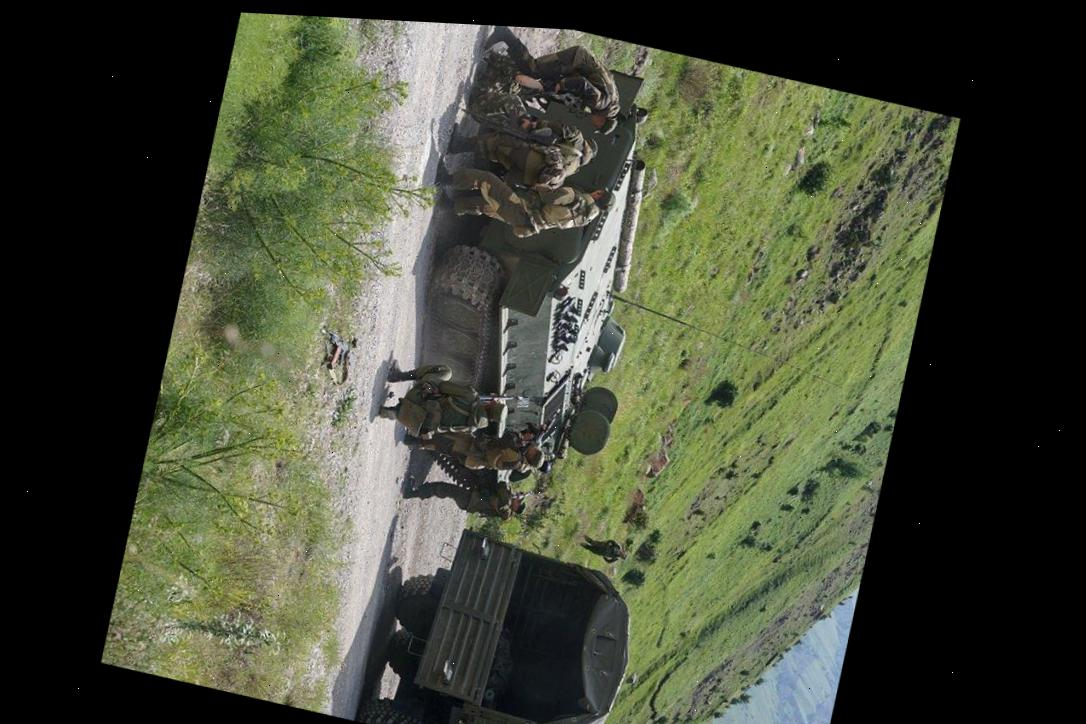person: (413, 152, 632, 260), (471, 25, 637, 137), (385, 411, 549, 484), (386, 467, 530, 526), (566, 527, 633, 565)
tank: (384, 35, 686, 521)
truck: (351, 509, 651, 724)
